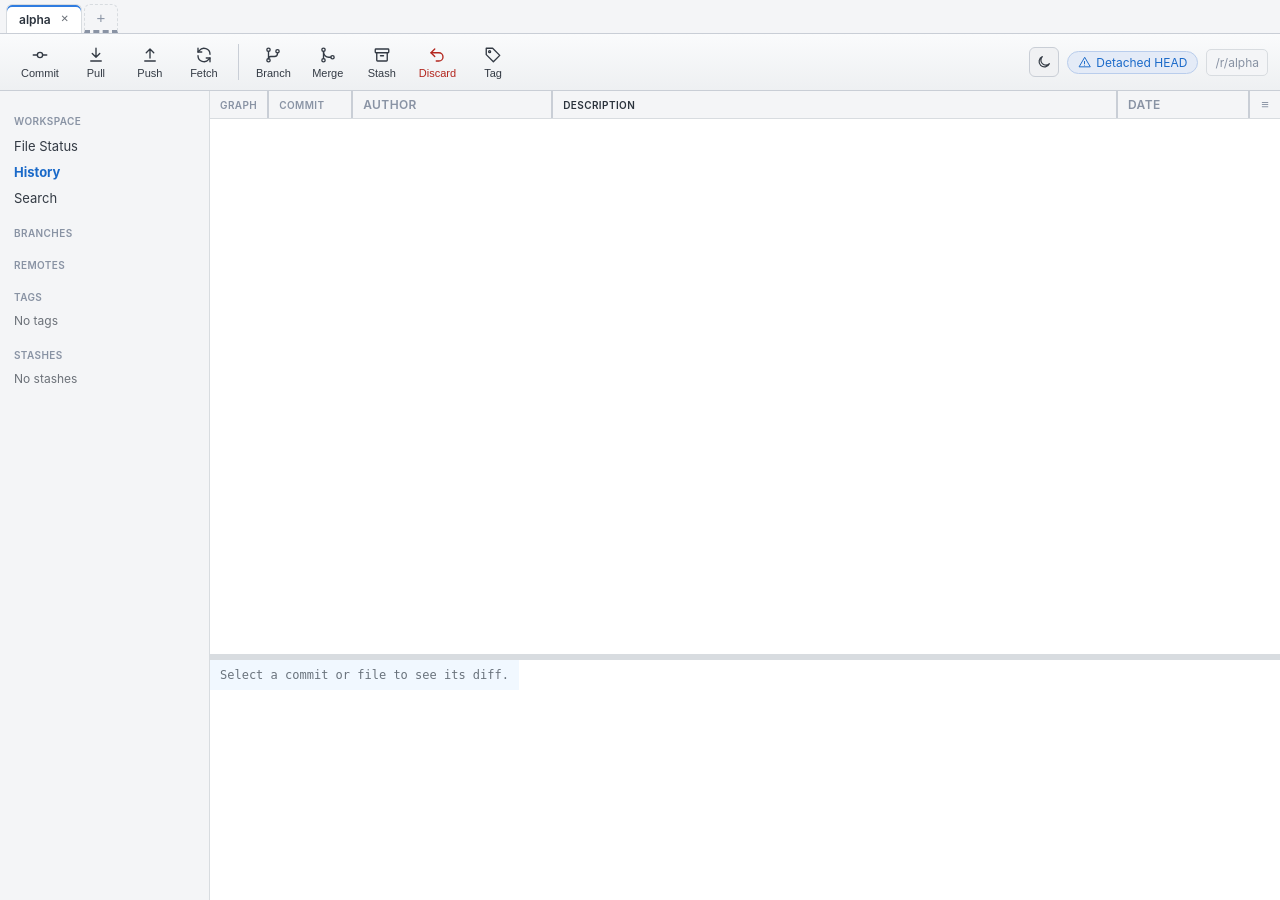
Test case: App tab session › shows an empty state once the last tab is closed
Expected: the text "alpha" is shown, [19,12,51,26]
Click the button titled "Close alpha" at [65, 19], box [57,11,73,27]
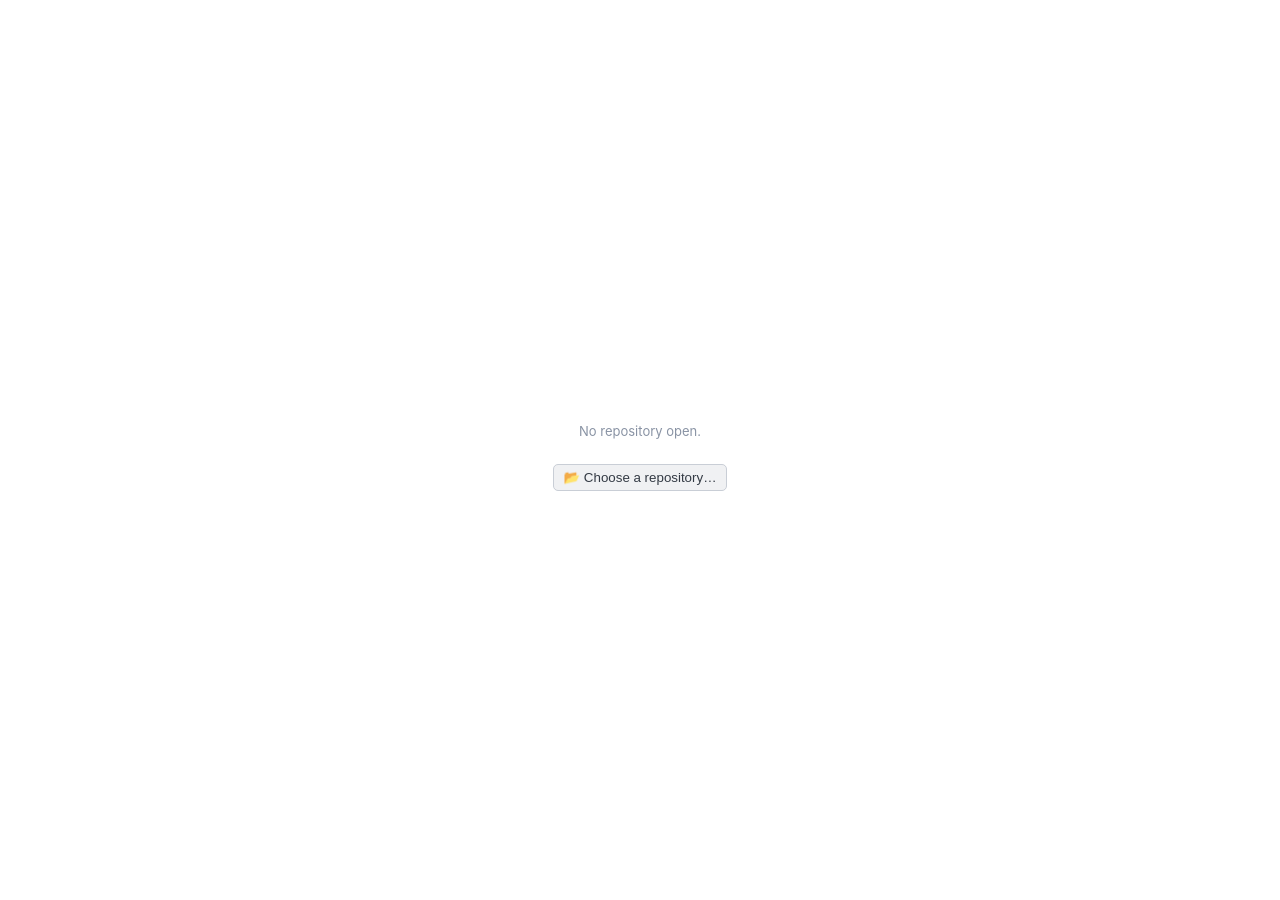
Expected: the text "No repository open." is shown, [579,422,701,438]
